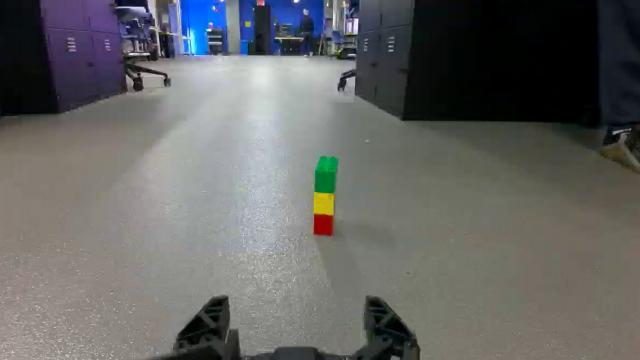lego: (313, 152, 333, 236)
